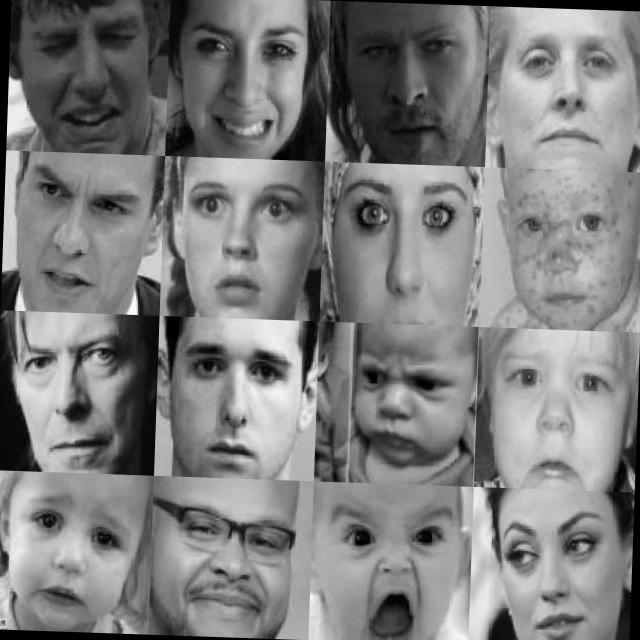angry: (322, 505, 456, 640), (7, 174, 131, 296), (342, 336, 455, 466)
fear: (176, 332, 294, 458), (178, 184, 292, 304)
happy: (162, 500, 282, 630), (194, 18, 304, 148)
neutral: (330, 172, 468, 317), (475, 502, 611, 640), (506, 17, 622, 166), (5, 328, 132, 461), (492, 190, 614, 314), (359, 24, 468, 148)
sad: (24, 2, 144, 134), (0, 489, 111, 624), (494, 362, 608, 481)
